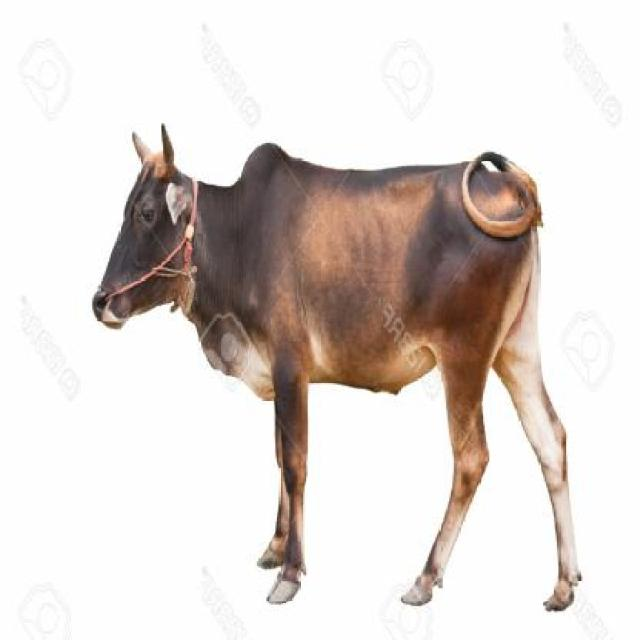Cow: (94, 121, 578, 604)
